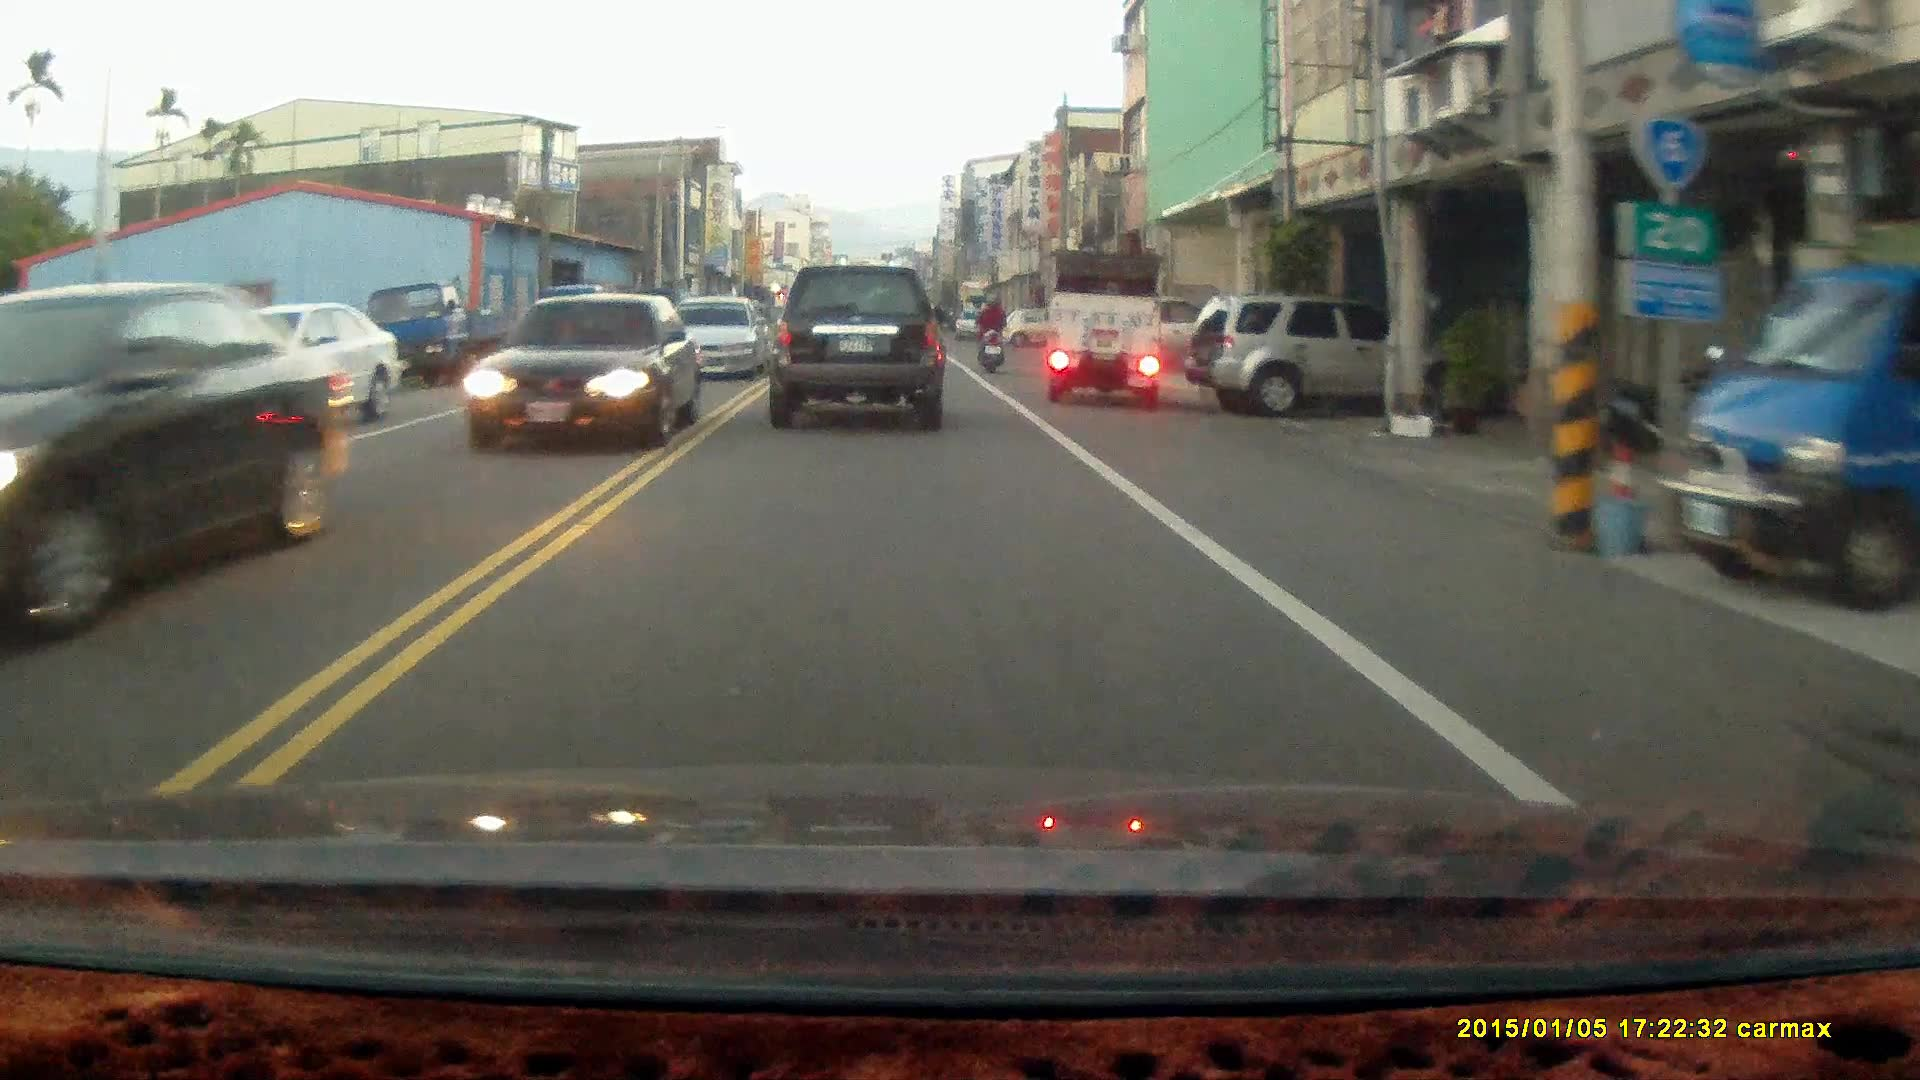rider: (971, 286, 1008, 372)
vehicle: (1, 277, 352, 659), (1663, 222, 1920, 614), (147, 298, 410, 457), (465, 285, 698, 450), (767, 262, 948, 428), (1188, 289, 1402, 414), (1046, 244, 1165, 398), (672, 293, 766, 378)
